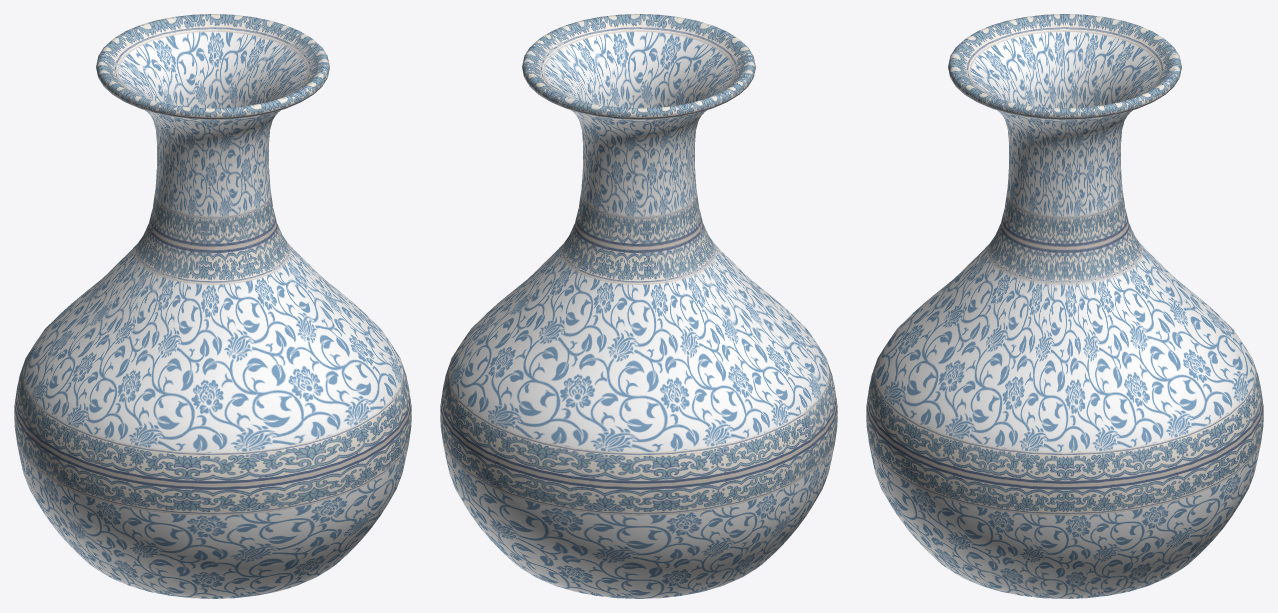
File: Vase_04.FBX
The picture shows the model from 3 angles, left to right: view 1: azimuth 30°, elevation 25°; view 2: azimuth 150°, elevation 25°; view 3: azimuth 270°, elevation 25°; orthographic projection.
Parts seen in each view (by area): view 1: Vase_04; view 2: Vase_04; view 3: Vase_04.
Part boxes in pixels (x1=…): Vase_04: x1=14, y1=14, x2=411, y2=598; Vase_04: x1=440, y1=14, x2=837, y2=598; Vase_04: x1=866, y1=14, x2=1263, y2=598.
Bounding box in the file's own units: 469 × 469 × 633.
